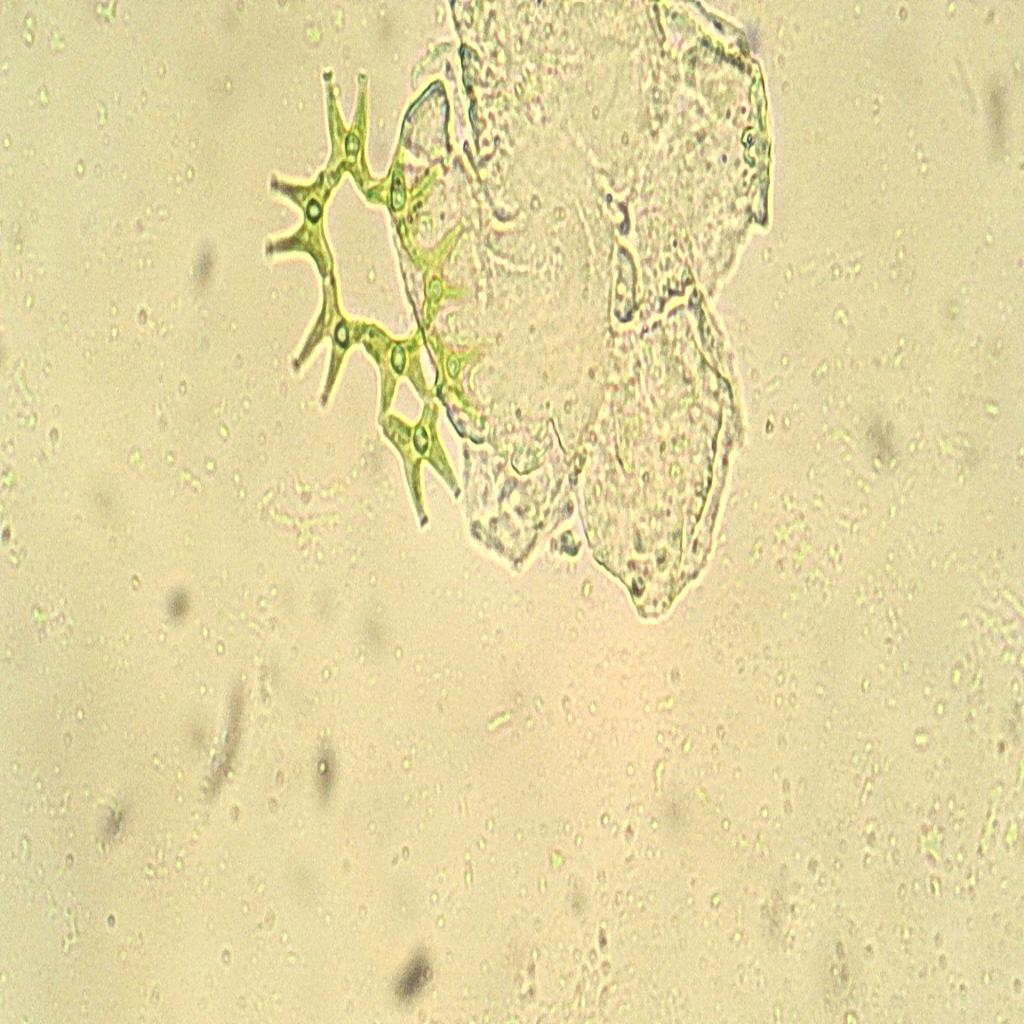Pediastrum_1TH: (244, 58, 504, 543)
